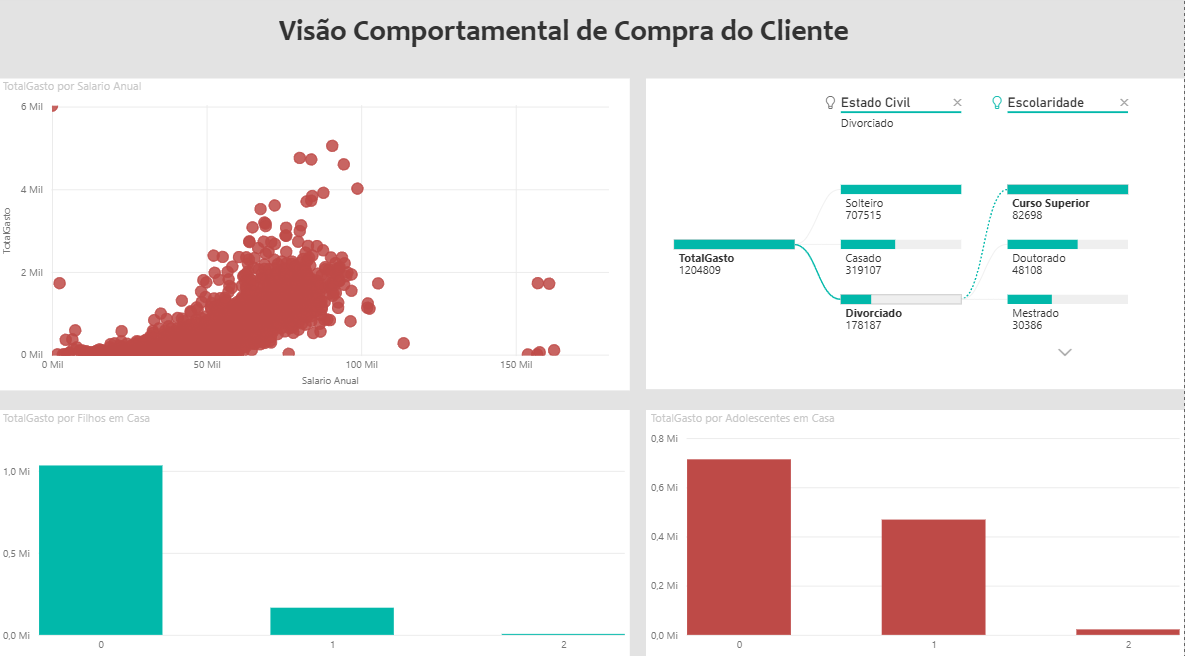

What the dashboard file says about the page in this screenshot:
{"tool":"powerbi","page":{"name":"Visão Comportamento","canvas":[1280,720],"ordinal":1},"visuals":[{"type":"scatterChart","fields":{"X":["Dados_Marketing.Salario Anual"],"Y":["Dados_Marketing.TotalGasto"]},"box":[0,92.3,681.7,336.8],"z":0},{"type":"columnChart","fields":{"Category":["Dados_Marketing.Filhos em Casa"],"Y":["Dados_Marketing.TotalGasto"]},"box":[0,450.1,681.7,270.4],"z":1000},{"type":"columnChart","fields":{"Y":["Dados_Marketing.TotalGasto"],"Category":["Dados_Marketing.Adolescentes em Casa"]},"box":[699.5,450.1,581.3,270.4],"z":2000},{"type":"decompositionTreeVisual","fields":{"Analyze":["Dados_Marketing.TotalGasto"],"ExplainBy":["Dados_Marketing.Estado Civil","Dados_Marketing.Escolaridade"]},"box":[699.5,92.3,581.3,335.2],"z":3000},{"type":"textbox","box":[100,100,300,300],"z":4000},{"type":"textbox","box":[297.9,14.6,683.3,61.5],"z":5000}]}

Visuals, with their boxes in screenshot pixels (x1, y1, x2, y2), scaled from the page's 1280x720 canvas onto the 1185x656 screenshot:
scatterChart - Dados_Marketing.Salario Anual x Dados_Marketing.TotalGasto: detection(0, 84, 631, 391)
columnChart - Dados_Marketing.Filhos em Casa x Dados_Marketing.TotalGasto: detection(0, 410, 631, 655)
columnChart - Dados_Marketing.TotalGasto x Dados_Marketing.Adolescentes em Casa: detection(648, 410, 1184, 655)
decompositionTreeVisual - Dados_Marketing.TotalGasto x Dados_Marketing.Estado Civil: detection(648, 84, 1184, 390)
textbox: detection(93, 91, 370, 364)
textbox: detection(276, 13, 908, 69)
